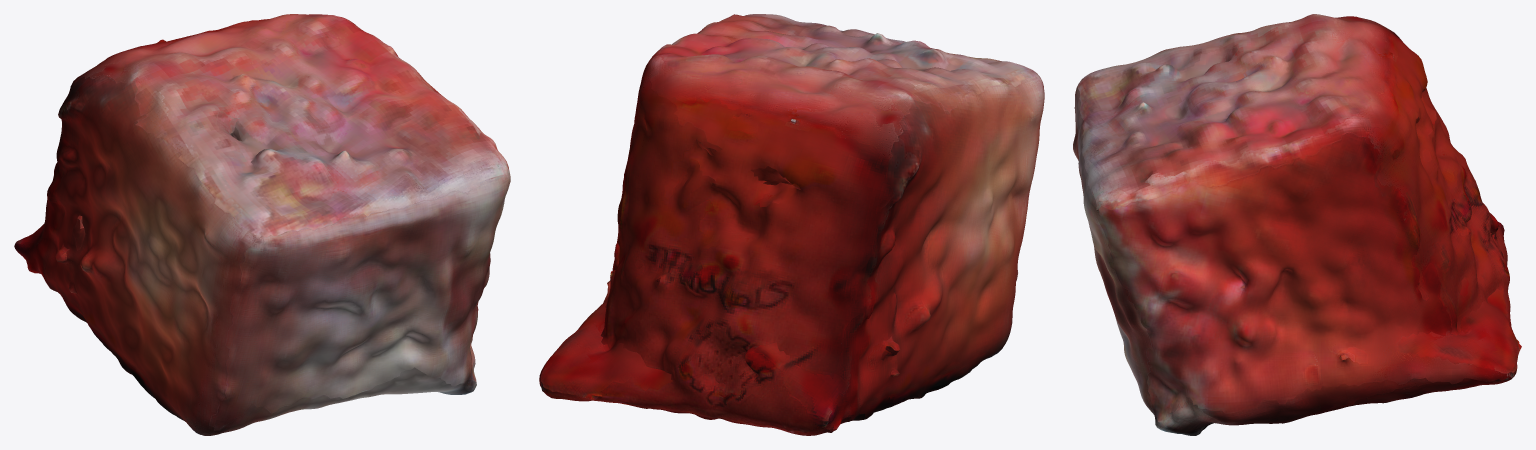
3 views of the same model, side by side, from view 1: azimuth 30°, elevation 25°; view 2: azimuth 150°, elevation 25°; view 3: azimuth 270°, elevation 25° (orthographic). The views are drawn at different scales.
Parts seen in each view (by area): view 1: 12_box.obj; view 2: 12_box.obj; view 3: 12_box.obj.
Part boxes in pixels (x1,y1,x2,y2): 12_box.obj: [14, 14, 510, 435]; 12_box.obj: [539, 14, 1044, 435]; 12_box.obj: [1073, 14, 1521, 435].
Size of the model in its own units: 0.4024 by 0.4071 by 0.5262.
1 material, 1 textured.
